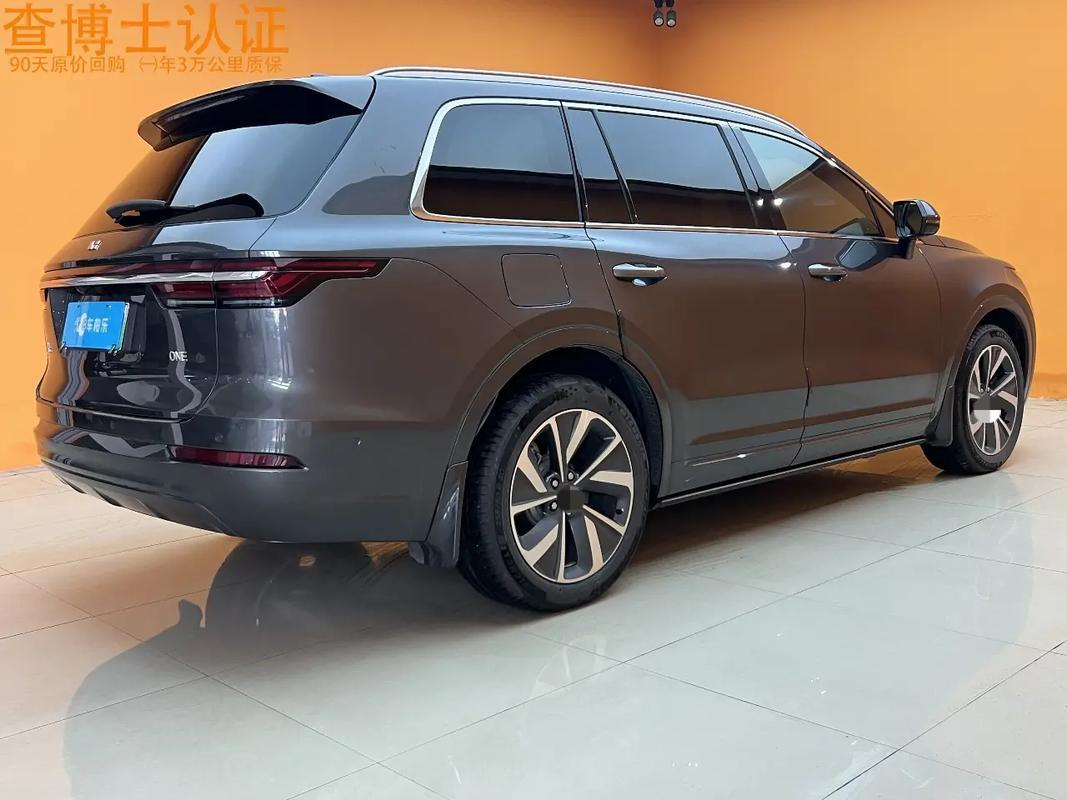Li Auto: (86, 239, 102, 252)
